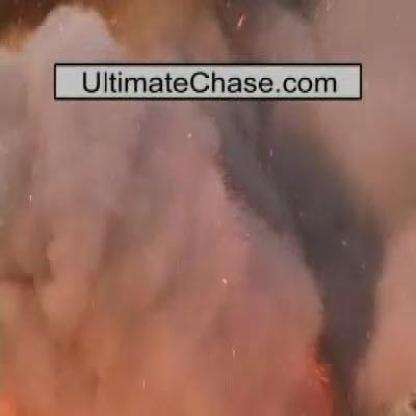-: (24, 104, 347, 375), (29, 4, 331, 59)
